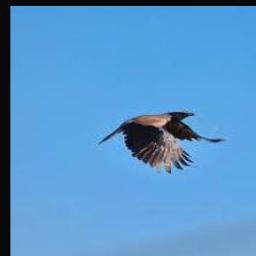Crow: (99, 111, 226, 173)
